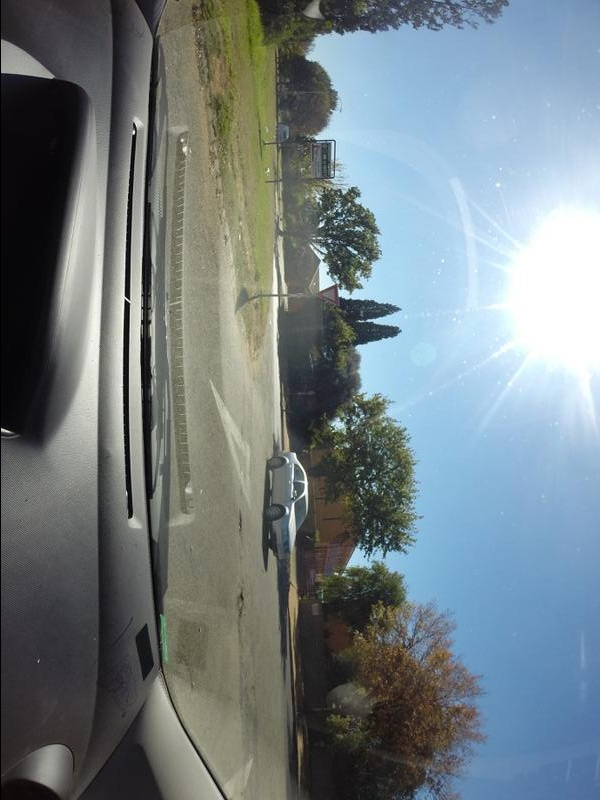pothole: (236, 505, 246, 545), (236, 589, 246, 627)
